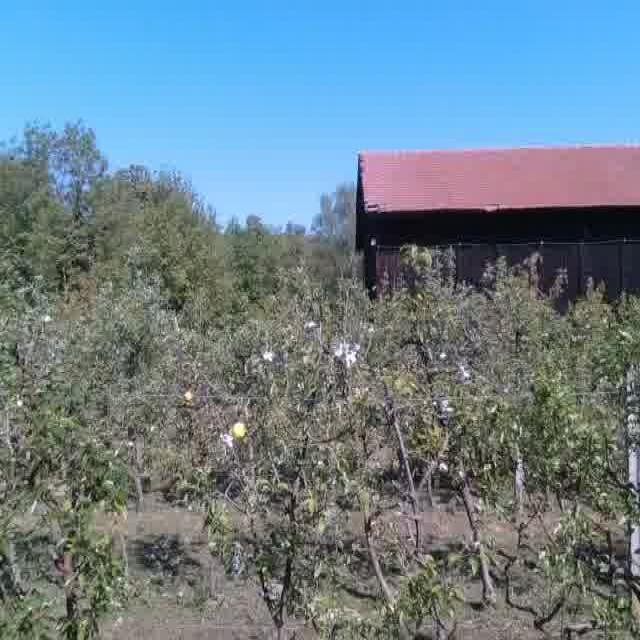yellow: (232, 420, 246, 440), (181, 388, 196, 404)
